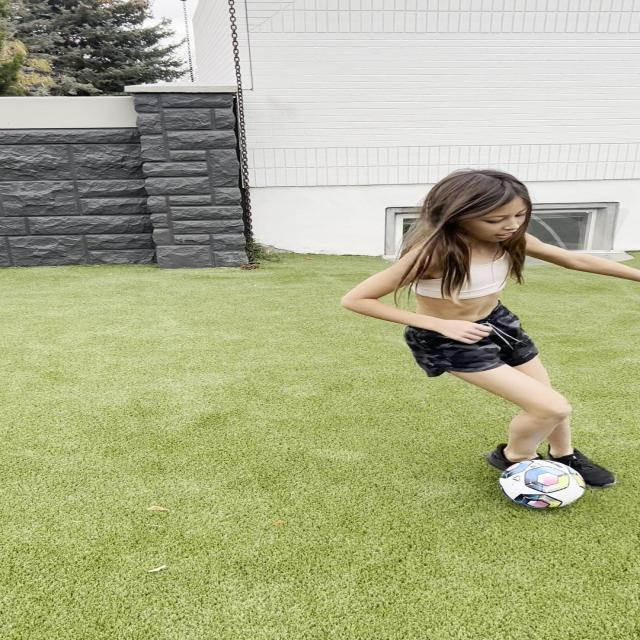Soccer Ball: (498, 459, 586, 508)
